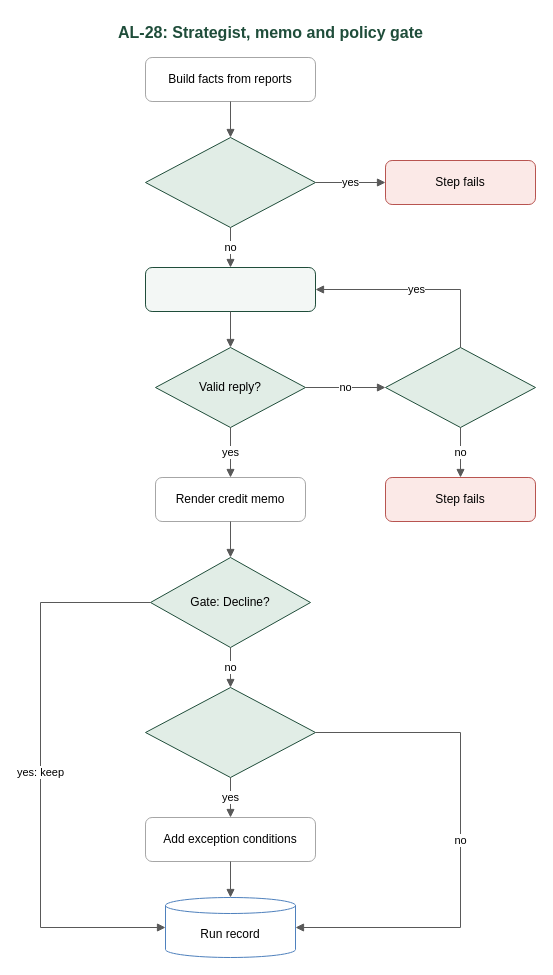
The diagram is 553 pixels wide and 975 high, and some of its shapes have lost their labels. Here are the shapes that lost their labels. From the top down, the centre of each, then its label:
At point 230,182: "Personal data found?".
At point 230,289: "Strategist agent (Gemini)".
At point 460,387: "Retry left?".
At point 230,732: "Breach or HELOC?".
